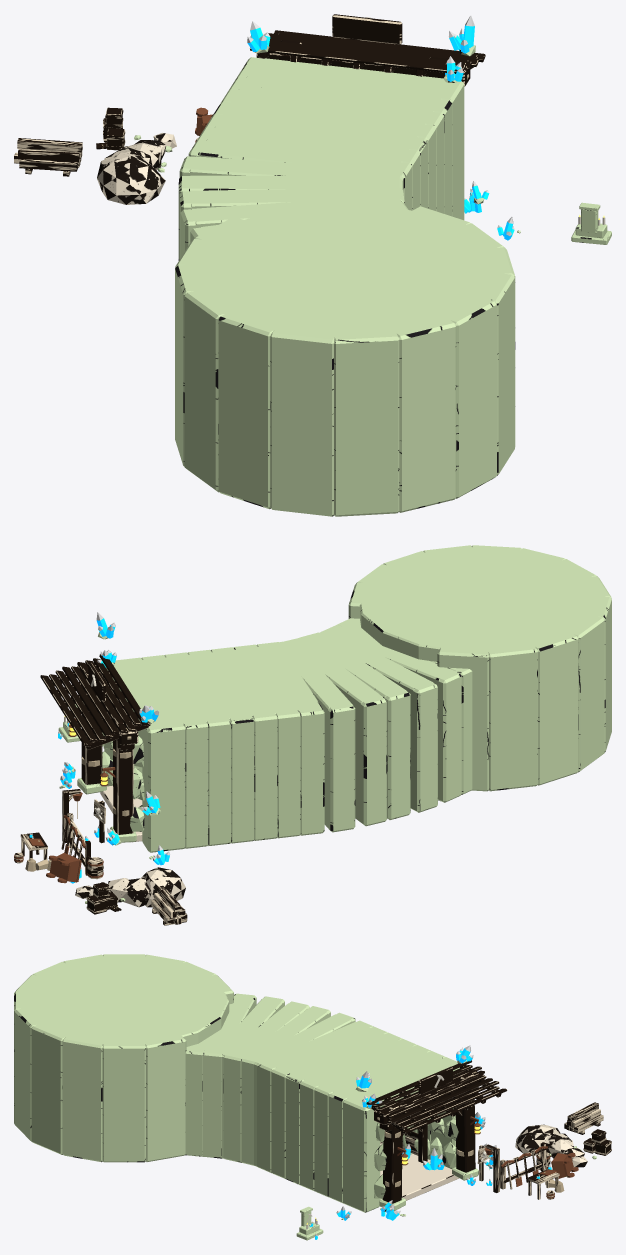
The model's file is LOBBY_04_MINE_e4dec7.fbx.
3 renders of one model, top to bottom at view 1: azimuth 30°, elevation 25°; view 2: azimuth 150°, elevation 25°; view 3: azimuth 270°, elevation 25°, orthographic. The views are drawn at different scales.
Visible parts, largest first — view 1: MINE_Tunnel_Shell__Cliff_Rock_Dark, MINE_Entrance_Portal__Wood_Plank_B, MINE_Entrance_Portal__Dirt, MINE_Entrance_Portal__Wood_Dark, MINE_Entrance_Portal__Crystal_Blue, MINE_Entrance_Portal__Cliff_Rock_Dark_B, MINE_Entrance_Portal__Wood_Dark_B; view 2: MINE_Tunnel_Shell__Cliff_Rock_Dark, MINE_Entrance_Portal__Wood_Plank_B, MINE_Entrance_Portal__Wood_Dark, MINE_Entrance_Portal__Dirt, MINE_Entrance_Portal__Metal_Rust, MINE_Entrance_Portal__Crystal_Blue, MINE_Entrance_Portal__Cliff_Rock_Dark_B, MINE_Entrance_Portal__Wood_Dark_B, MINE_Entrance_Portal__Crystal_Blue_Core, MINE_Entrance_Portal__Rope; view 3: MINE_Tunnel_Shell__Cliff_Rock_Dark, MINE_Entrance_Portal__Wood_Plank_B, MINE_Entrance_Portal__Wood_Dark, MINE_Entrance_Portal__Dirt, MINE_Tunnel_Shell__Dirt, MINE_Entrance_Portal__Crystal_Blue, MINE_Entrance_Portal__Metal_Rust, MINE_Entrance_Portal__Cliff_Rock_Dark_B, MINE_Entrance_Portal__Crystal_Blue_Core, MINE_Entrance_Portal__Wood_Dark_B, MINE_Entrance_Portal__Rope.
Part boxes in pixels (box(x1,y1,x2,y2)): MINE_Tunnel_Shell__Cliff_Rock_Dark: box(175, 57, 515, 516); MINE_Entrance_Portal__Wood_Plank_B: box(14, 30, 485, 171); MINE_Entrance_Portal__Dirt: box(97, 133, 176, 204); MINE_Entrance_Portal__Wood_Dark: box(25, 14, 473, 176); MINE_Entrance_Portal__Crystal_Blue: box(247, 25, 514, 240); MINE_Entrance_Portal__Cliff_Rock_Dark_B: box(134, 45, 611, 244); MINE_Entrance_Portal__Wood_Dark_B: box(96, 107, 124, 150); MINE_Tunnel_Shell__Cliff_Rock_Dark: box(102, 545, 611, 852); MINE_Entrance_Portal__Wood_Plank_B: box(14, 654, 187, 924); MINE_Entrance_Portal__Wood_Dark: box(21, 662, 186, 925); MINE_Entrance_Portal__Dirt: box(75, 867, 185, 907); MINE_Entrance_Portal__Metal_Rust: box(14, 718, 115, 883); MINE_Entrance_Portal__Crystal_Blue: box(29, 618, 169, 883); MINE_Entrance_Portal__Cliff_Rock_Dark_B: box(38, 632, 160, 903); MINE_Entrance_Portal__Wood_Dark_B: box(87, 799, 121, 914); MINE_Entrance_Portal__Crystal_Blue_Core: box(30, 612, 169, 869); MINE_Entrance_Portal__Rope: box(25, 701, 131, 908); MINE_Tunnel_Shell__Cliff_Rock_Dark: box(14, 954, 459, 1212); MINE_Entrance_Portal__Wood_Plank_B: box(366, 1060, 603, 1199); MINE_Entrance_Portal__Wood_Dark: box(371, 1065, 611, 1203); MINE_Entrance_Portal__Dirt: box(515, 1124, 587, 1167); MINE_Tunnel_Shell__Dirt: box(380, 1142, 459, 1200); MINE_Entrance_Portal__Crystal_Blue: box(309, 1048, 551, 1239); MINE_Entrance_Portal__Metal_Rust: box(397, 1116, 578, 1198); MINE_Entrance_Portal__Cliff_Rock_Dark_B: box(296, 1060, 596, 1240); MINE_Entrance_Portal__Crystal_Blue_Core: box(309, 1045, 552, 1236); MINE_Entrance_Portal__Wood_Dark_B: box(477, 1129, 611, 1163); MINE_Entrance_Portal__Rope: box(377, 1071, 564, 1192).
Bounding box in the file's own units: 61.86 × 23.77 × 88.37.
13 materials, 3 textured.
